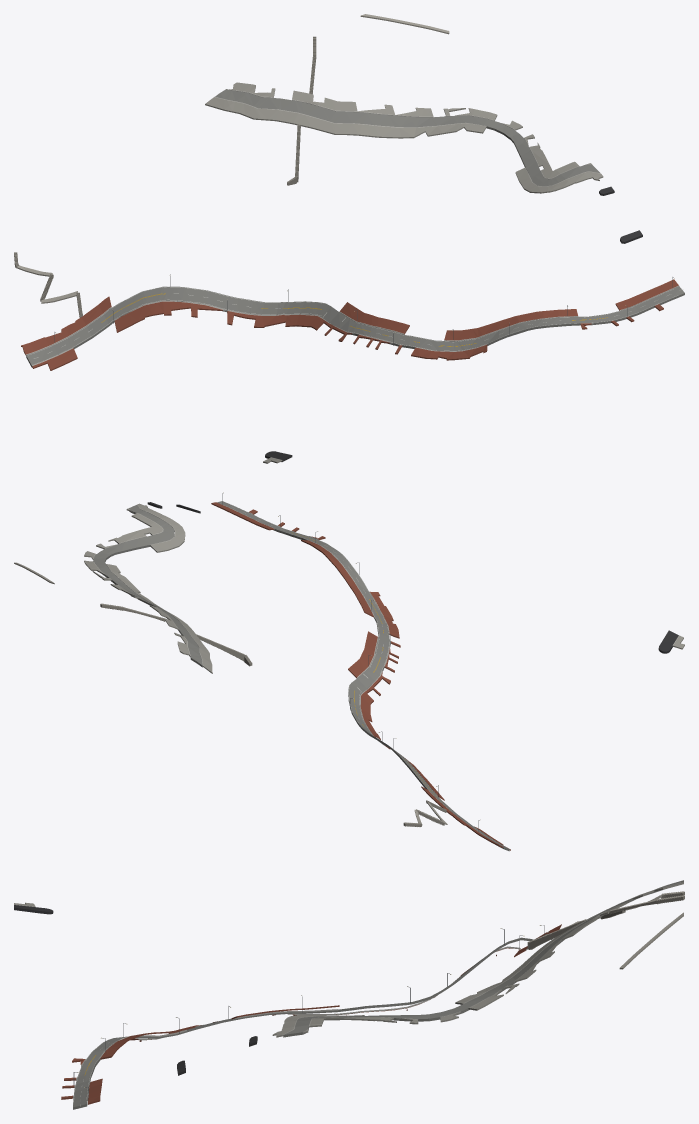
Rendered from 17-109431-59480.20bbdaff.glb.
3 views of the same model, one above another, from view 1: azimuth 30°, elevation 25°; view 2: azimuth 150°, elevation 25°; view 3: azimuth 270°, elevation 25° (orthographic). The views are drawn at different scales.
Bounding box in the file's own units: 295 × 129 × 292.
